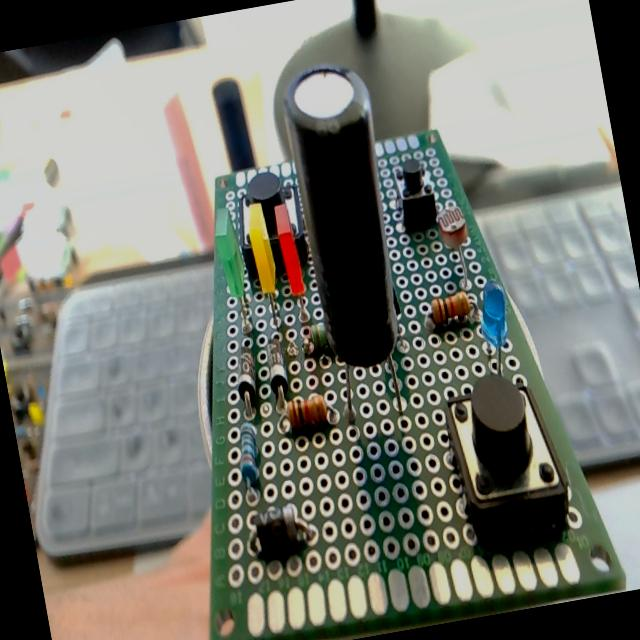Electrolytic capacitor: (276, 67, 422, 426)
cds: (435, 205, 478, 294)
diode: (248, 499, 320, 556), (229, 344, 264, 419), (262, 336, 292, 404)
led: (210, 208, 255, 332), (272, 203, 314, 334), (245, 203, 287, 334), (472, 278, 517, 374)
resistor: (230, 419, 270, 504), (420, 290, 472, 332), (283, 391, 330, 432)
switch: (440, 368, 572, 543), (230, 170, 313, 284), (390, 154, 437, 228)
